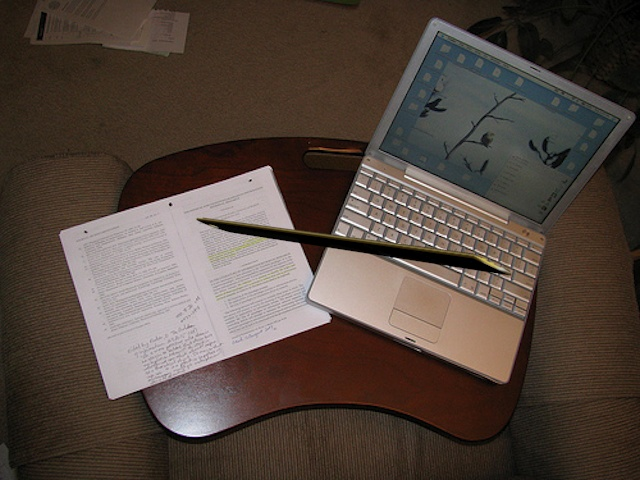ruler: (192, 208, 513, 288)
